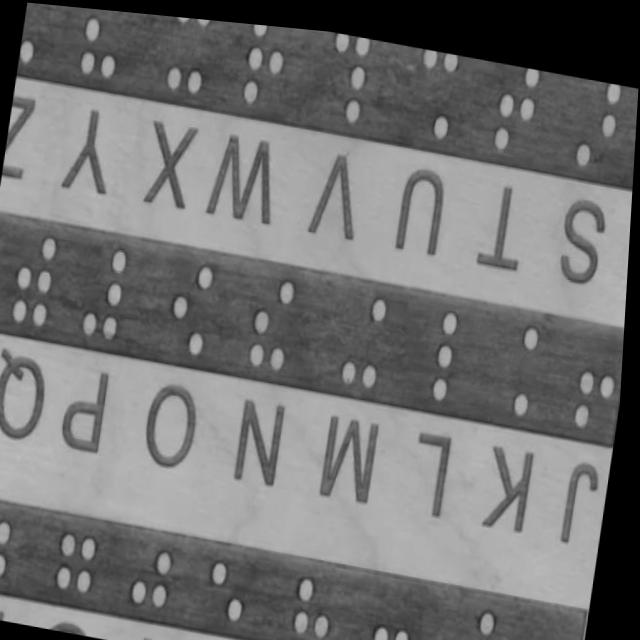braiile: (401, 281, 475, 405), (3, 214, 70, 343), (242, 251, 310, 378), (161, 240, 227, 368), (484, 293, 550, 420), (73, 232, 141, 354), (336, 269, 399, 391), (482, 51, 548, 164), (311, 24, 380, 129), (402, 38, 467, 149), (566, 65, 630, 177), (570, 309, 628, 431), (231, 18, 295, 120), (68, 5, 134, 92), (158, 12, 216, 101), (18, 2, 49, 78)
